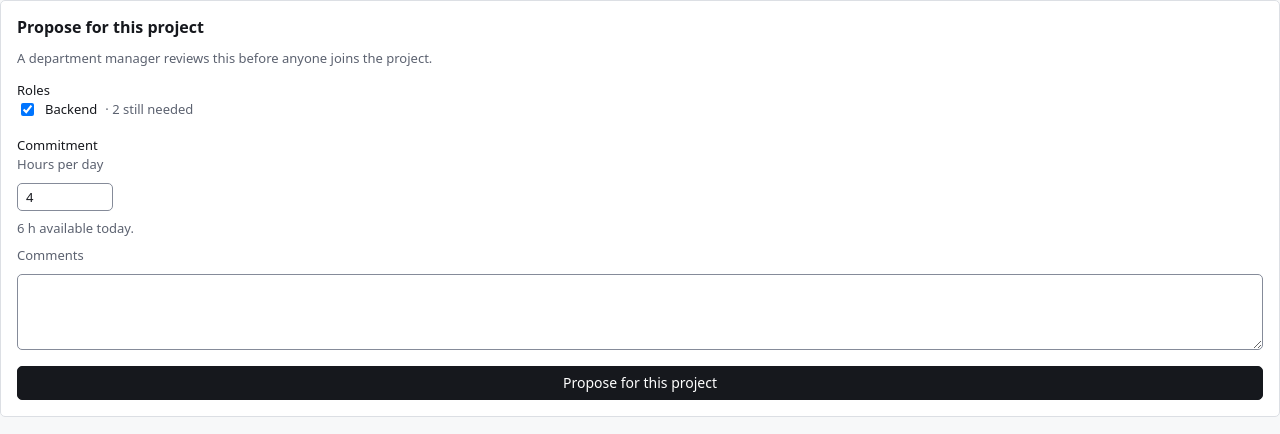
Test: role prefill › lets a role be unticked, but not the last one
Click the checkbox labelled "Backend · 2 still needed": (28, 110) [21,103,34,116]
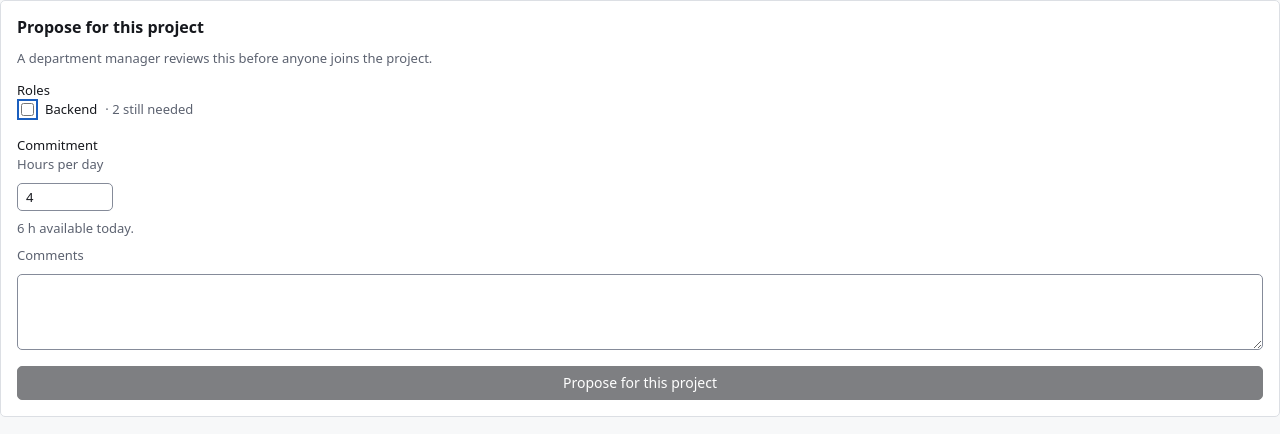
Check: the checkbox labelled "Backend · 2 still needed" is not checked, box [21,103,34,116]
Check: the button "Propose for this project" is disabled, box [17,366,1263,400]
